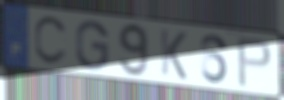6: (199, 33, 229, 85)
9: (116, 21, 150, 79)
C: (33, 15, 70, 68)
G: (74, 19, 111, 73)
K: (159, 27, 189, 82)
P: (235, 36, 273, 89)
